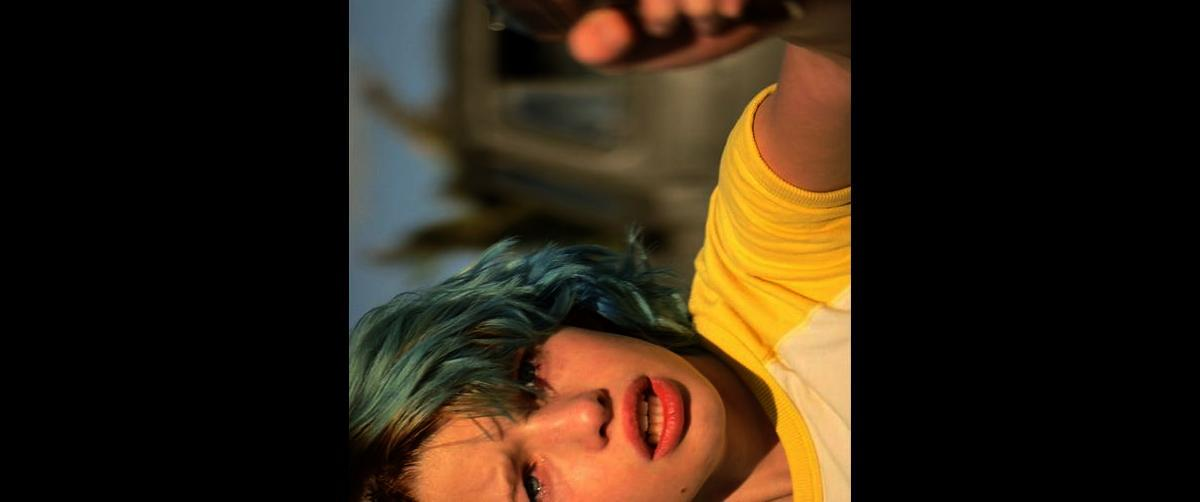gun: (411, 0, 669, 80)
